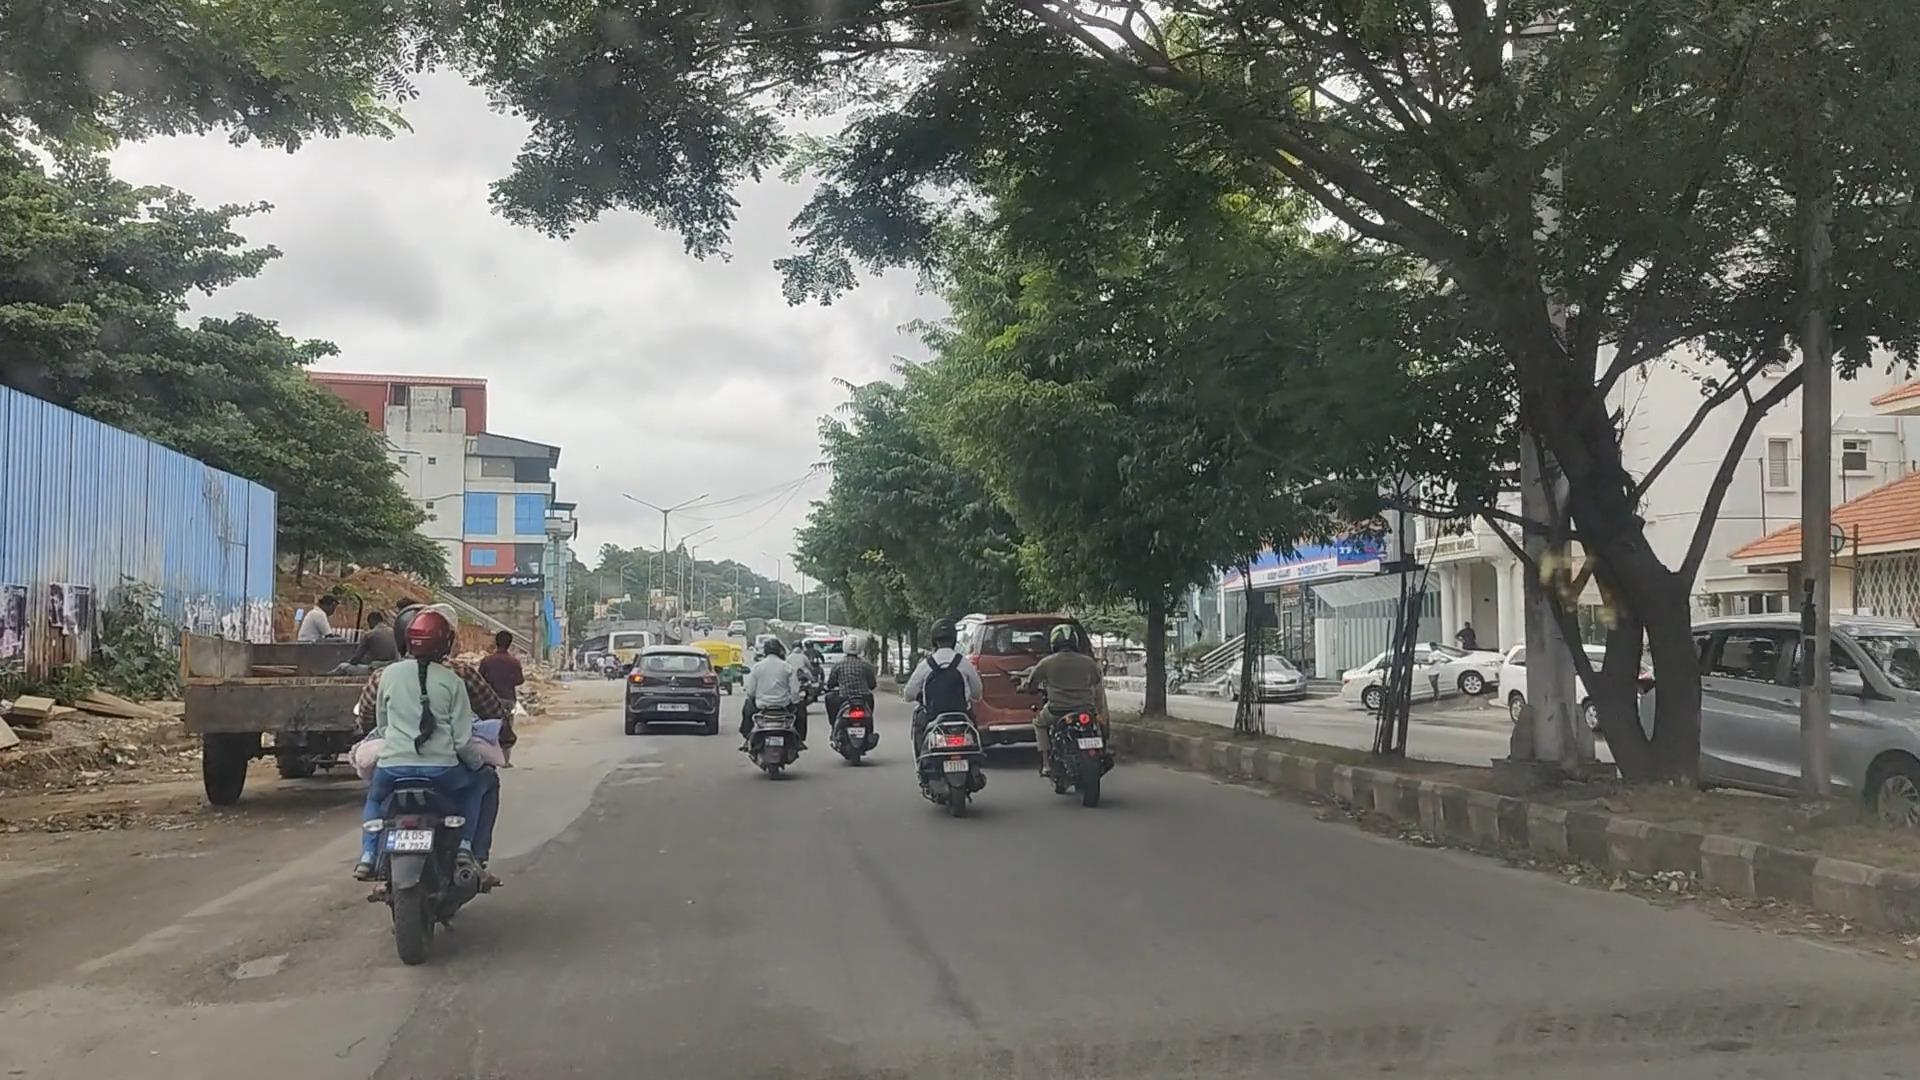LMV: (386, 593, 476, 944), (910, 612, 998, 808), (1040, 617, 1106, 793), (746, 637, 810, 769), (630, 640, 716, 725), (836, 624, 880, 748)
RoadDamages: (160, 899, 343, 1006), (371, 964, 491, 1080)
